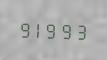nine: (18, 18, 31, 39), (46, 19, 59, 40), (60, 20, 73, 40)
one: (32, 19, 45, 39)
three: (74, 20, 87, 41)
